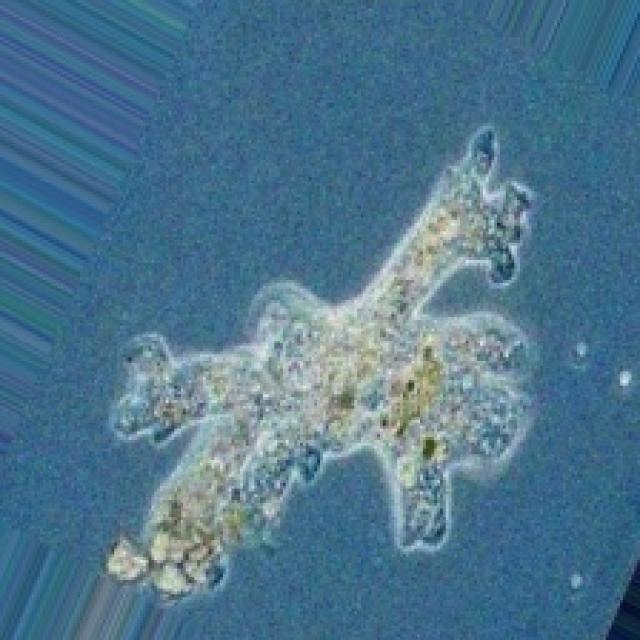Amoeba: (100, 120, 546, 603)
